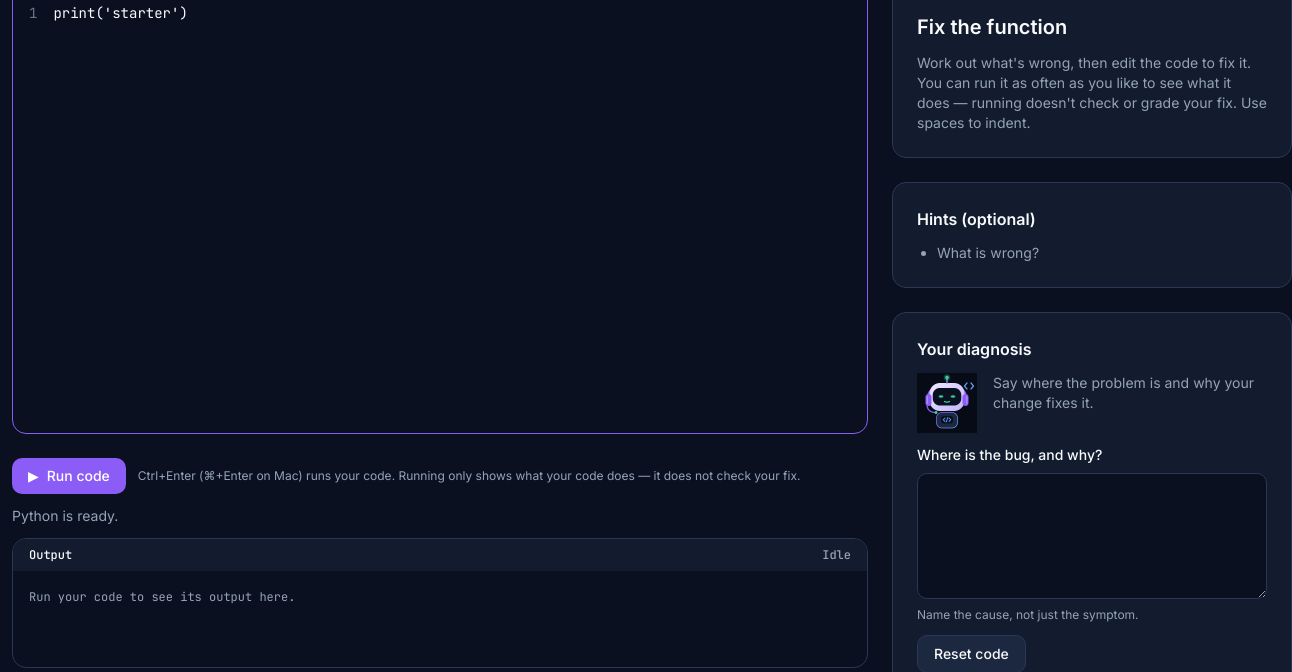
Test: Fix stage: reset, cleanup and accessibility › Reset code (after confirming) clears the output panel and restores the starter code
What coordinates should you click on to do the following:
click the button "▶ Run code"
I would click on:
 (69, 476)
Its box is [12,458,126,494].
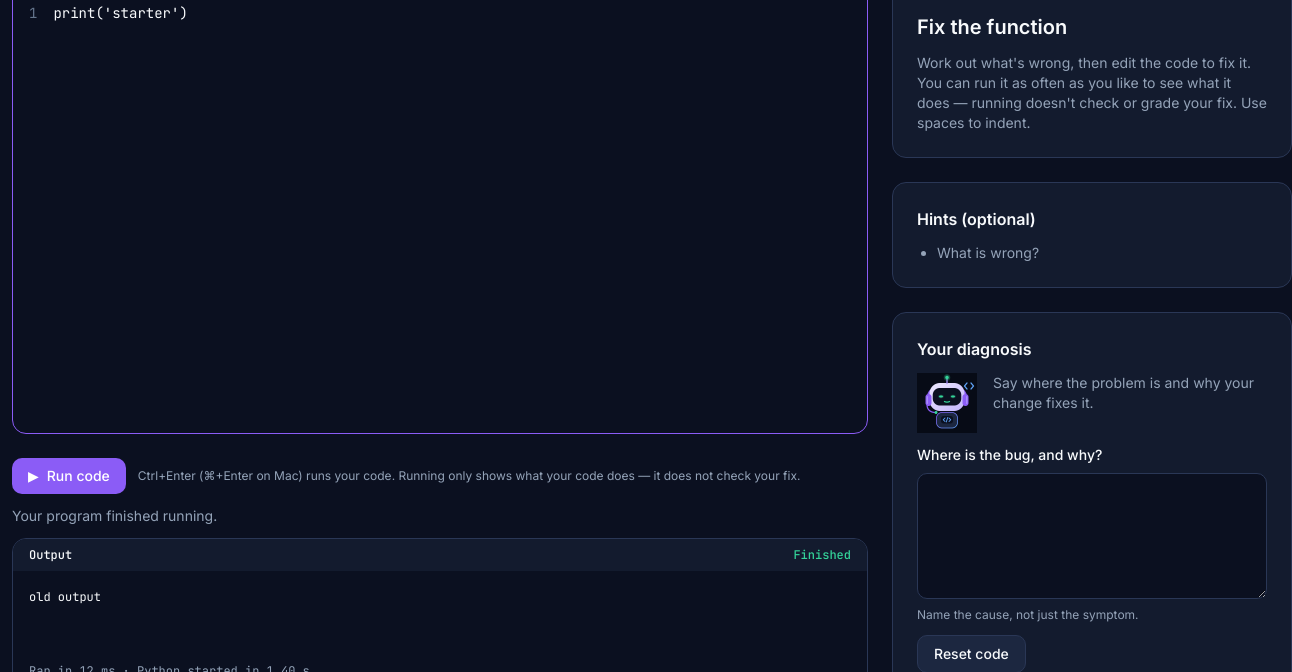
expect the element with test id "run-output" reads "old output": met, box [29,589,101,605]
What coordinates should you click on to do the following:
click the button "Reset code"
I would click on:
 (971, 654)
Its box is [917,635,1026,671].
(page scrolled)
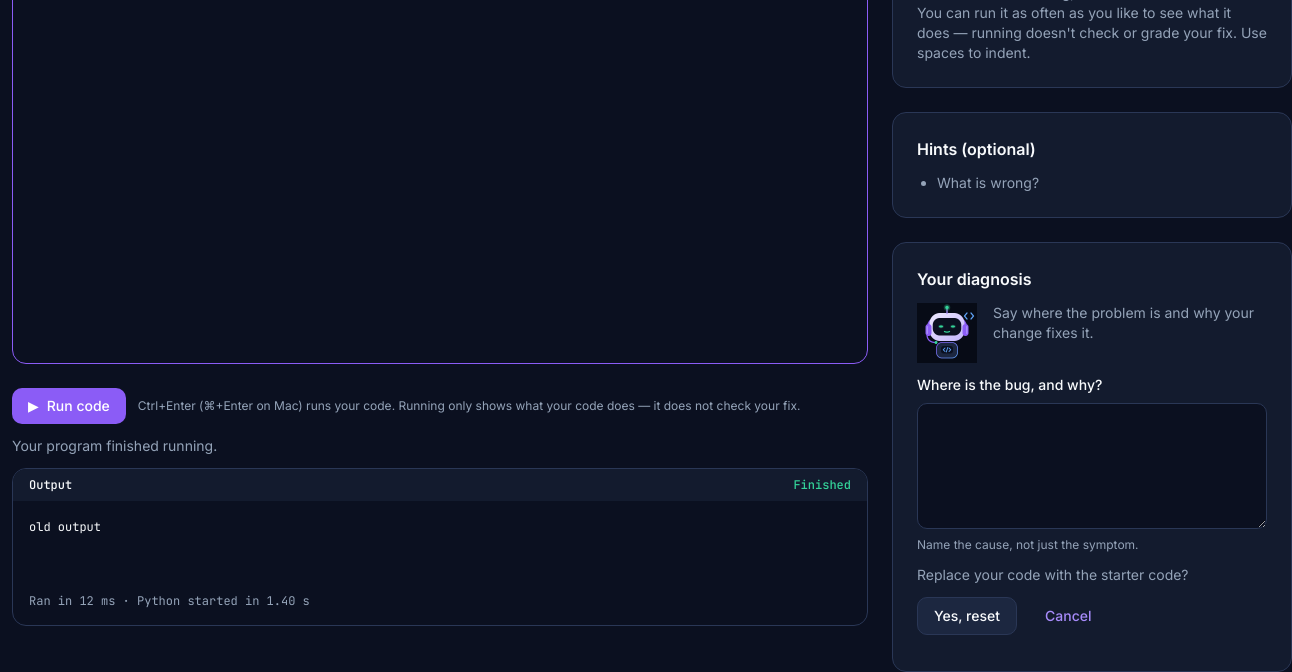
What coordinates should you click on to do the following:
click the button "Yes, reset"
I would click on:
 (967, 616)
Its box is [917,597,1017,635].
(page scrolled)
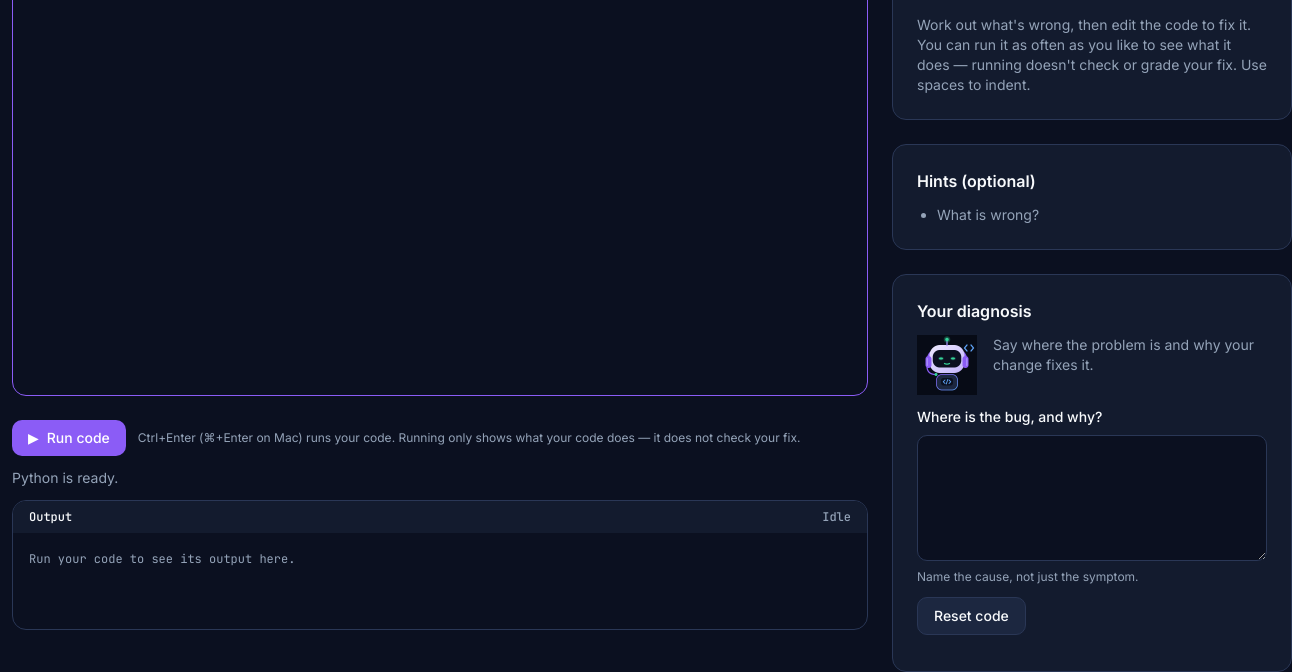
expect the element with test id "run-output" no longer shows "old output": met, box [29,551,295,567]
